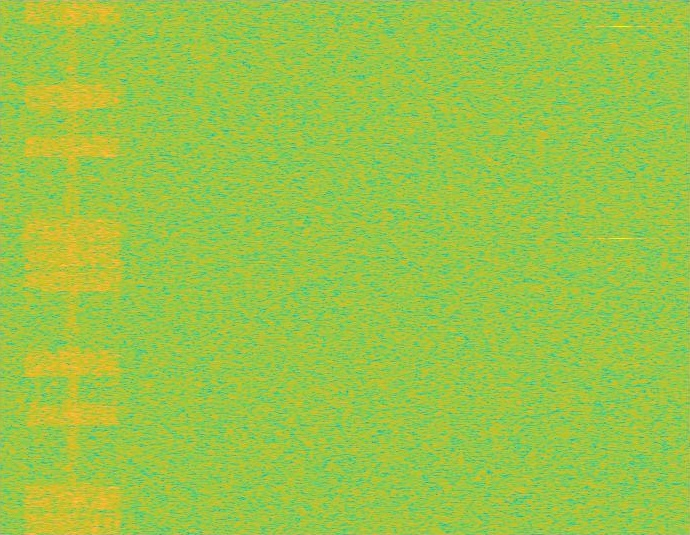DSSS: (66, 0, 80, 534)
LTE: (21, 0, 124, 534)
Radar: (614, 0, 628, 534)
